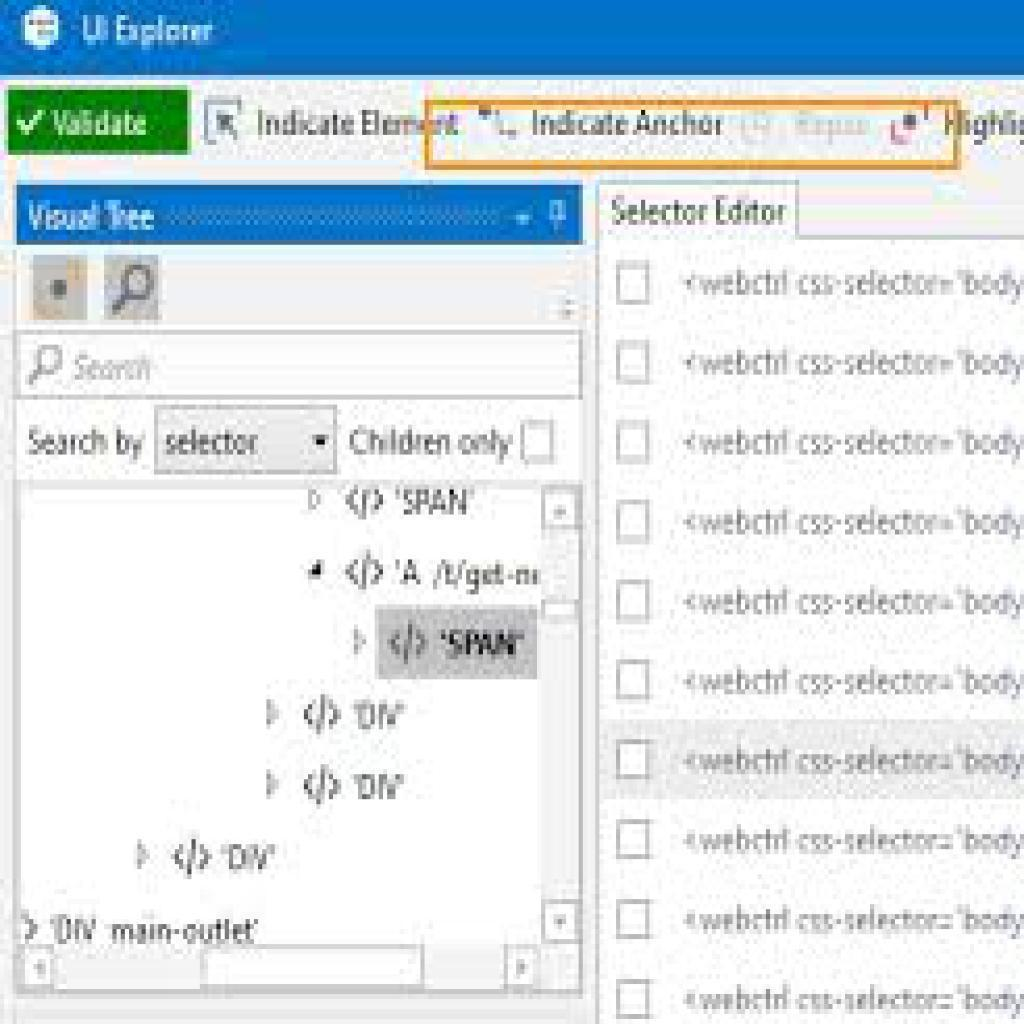button: (17, 185, 585, 244), (7, 87, 192, 154)
checkbox: (615, 417, 652, 467), (615, 577, 652, 627), (615, 339, 653, 386), (614, 501, 651, 547), (520, 419, 555, 465), (614, 261, 651, 304), (614, 897, 650, 941), (617, 738, 652, 782), (615, 659, 650, 702), (614, 980, 651, 1020), (615, 820, 651, 860)
dropdown: (155, 407, 336, 471)
icon: (17, 344, 69, 387)
input: (11, 329, 581, 397)
